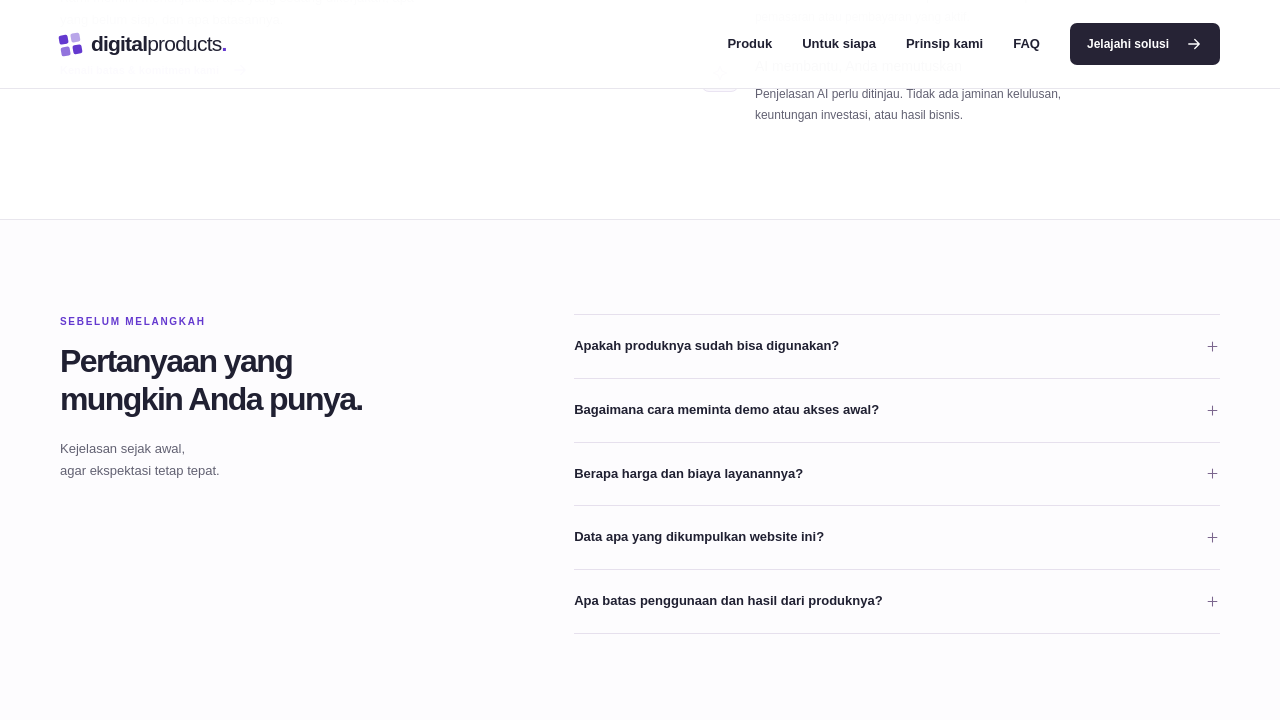
Test: Homepage Hari 04 › menjelaskan kontak, privasi, biaya, dan batasan di FAQ
(page scrolled)
Click the heading "Bagaimana cara meminta demo atau akses awal?" at [727, 409], box [574,402,1220,418]
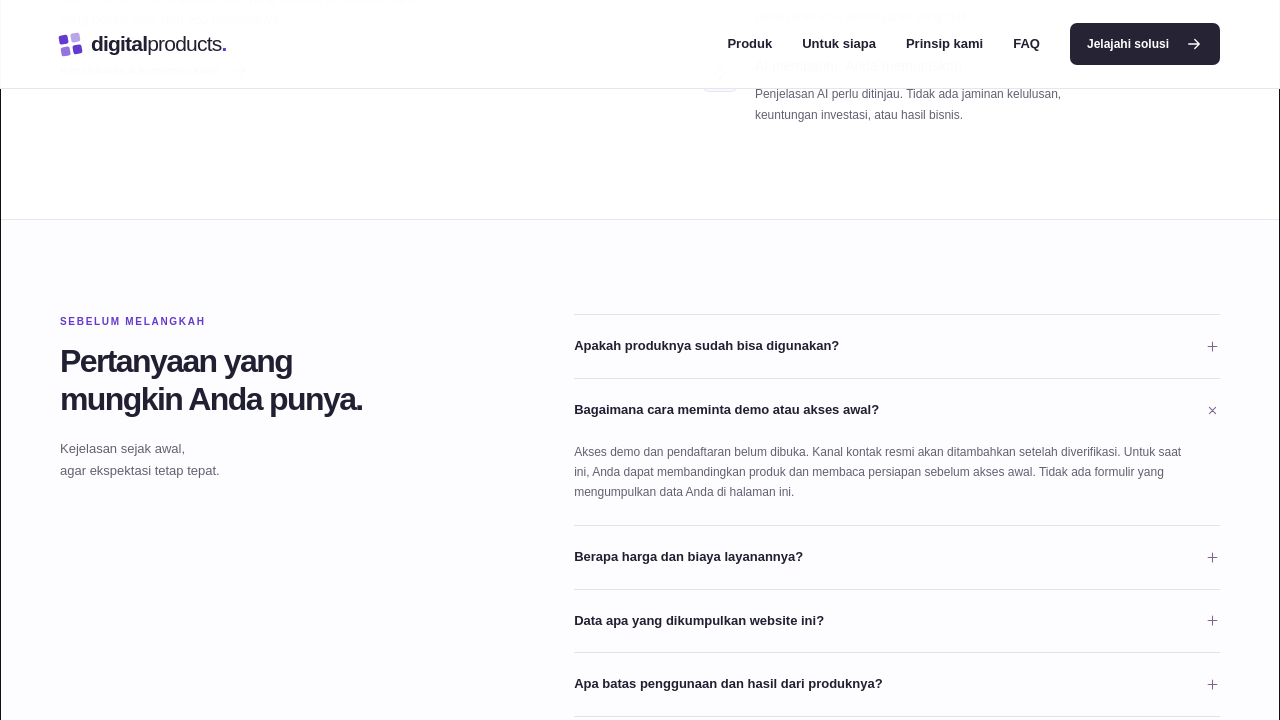
Check: the text "Kanal kontak resmi akan ditambahkan" is shown, box [574,444,1181,499]
